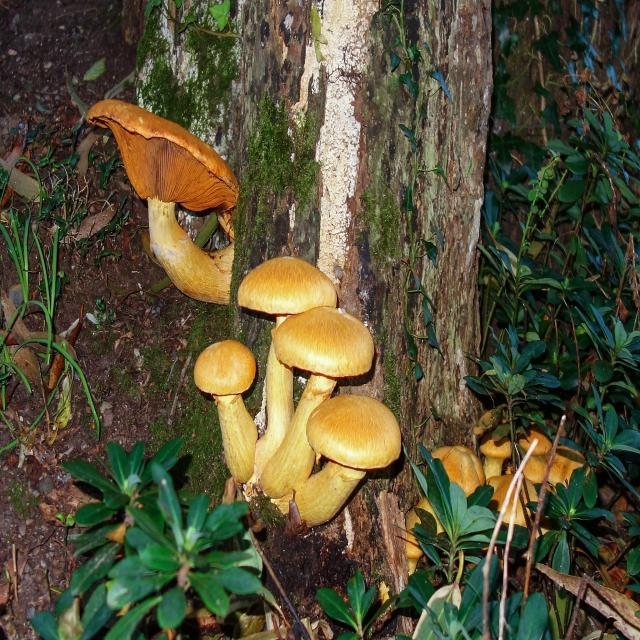Armillaria mellea: (194, 260, 403, 530), (90, 101, 238, 309), (433, 422, 589, 525)
